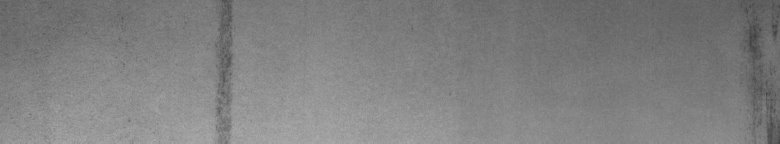hd: (741, 4, 776, 136)
